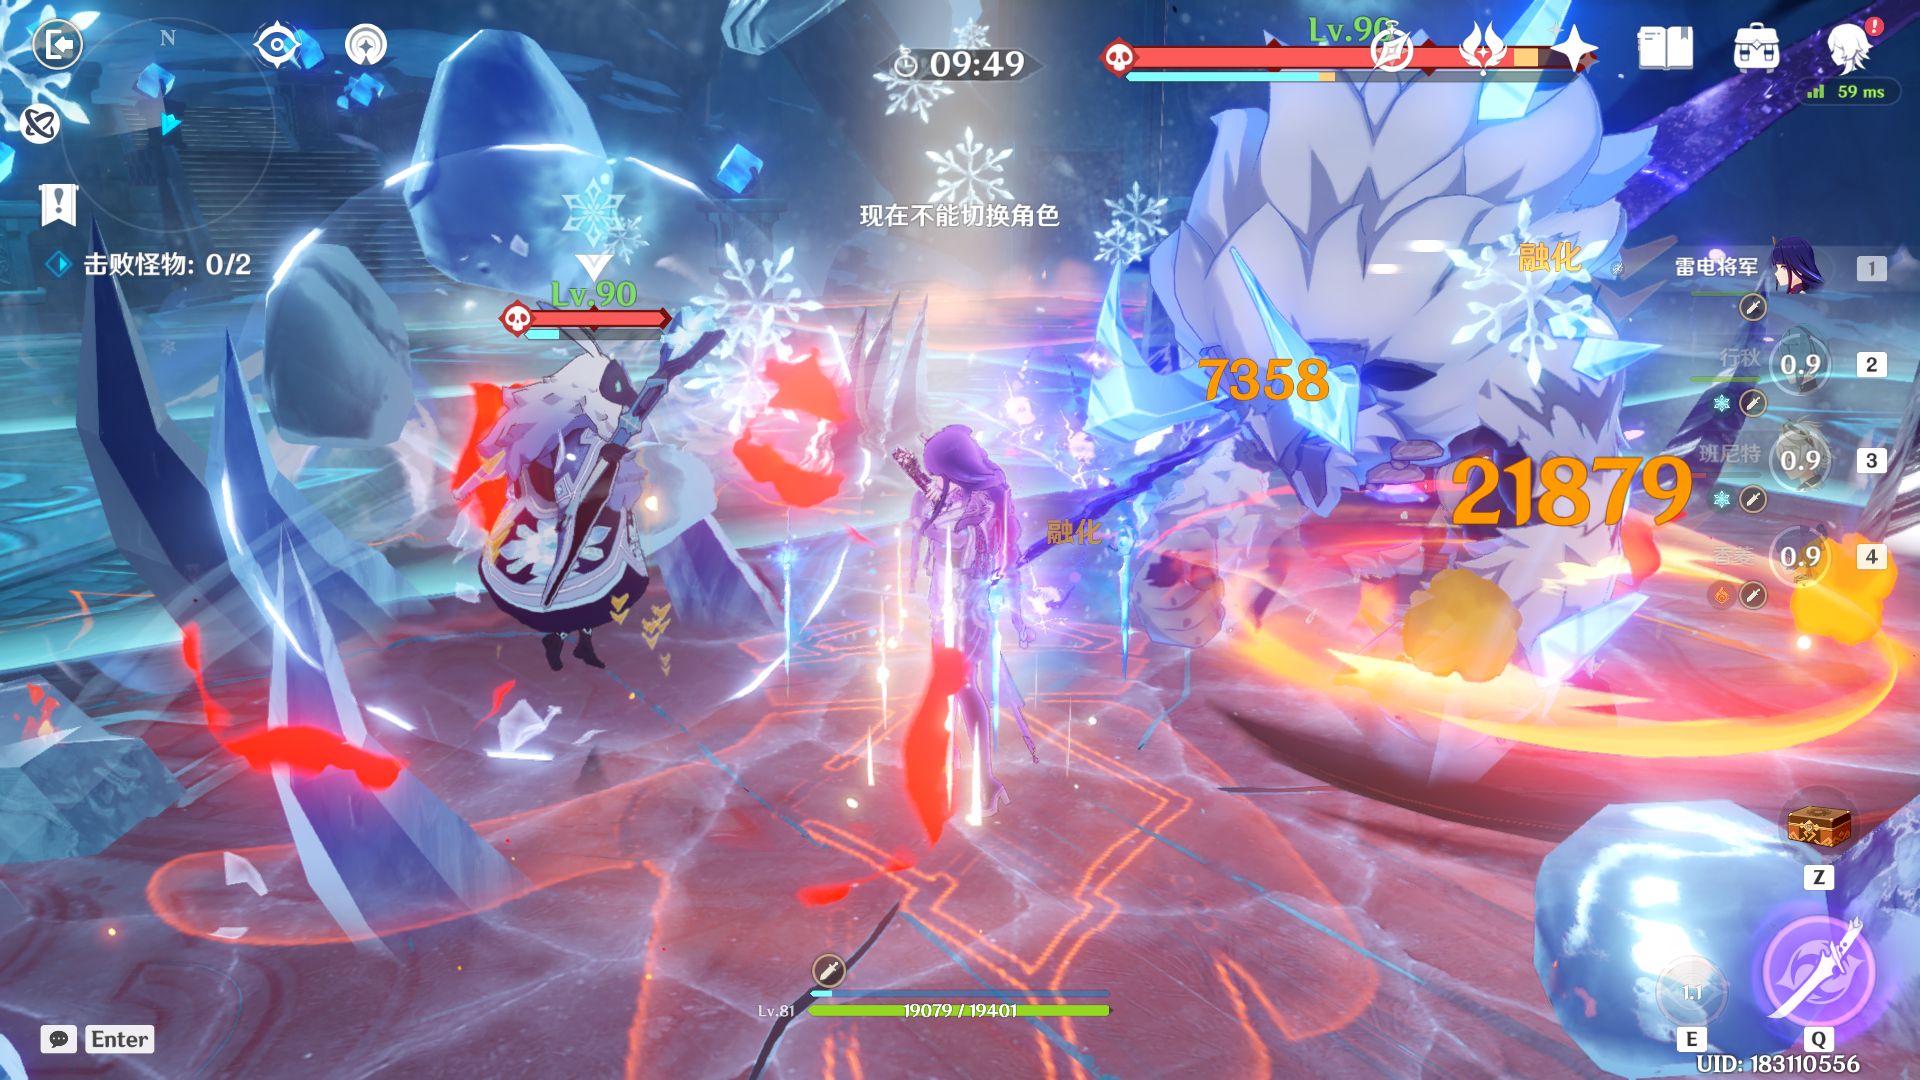bosshili: (1034, 36, 1745, 771)
caster: (401, 310, 740, 777)
character: (841, 375, 1104, 814)
